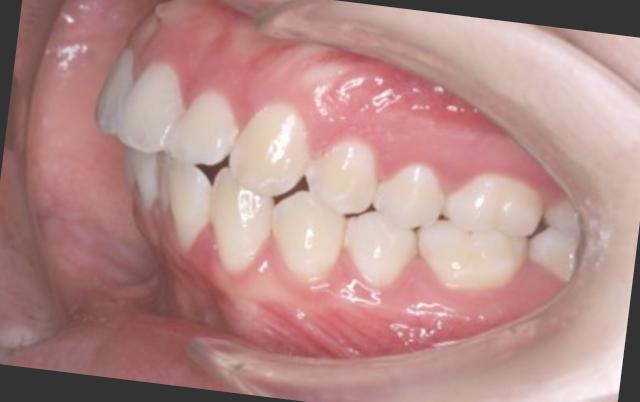canine class II 1/4: (200, 77, 366, 306)
molar class I: (410, 156, 551, 304)
